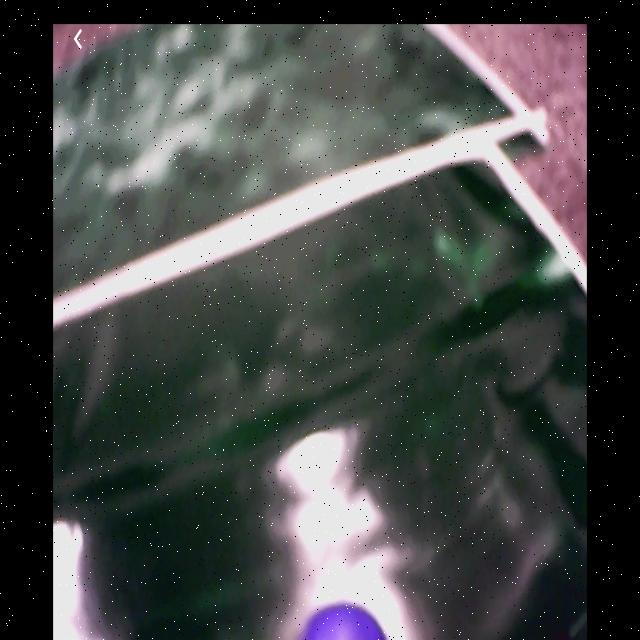ball: (303, 603, 388, 640)
